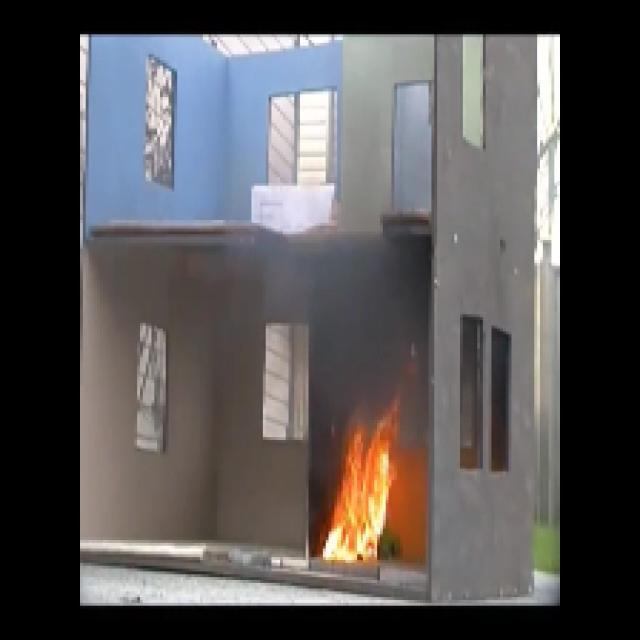Fire: (326, 420, 403, 560)
Smoke: (313, 248, 405, 374)
